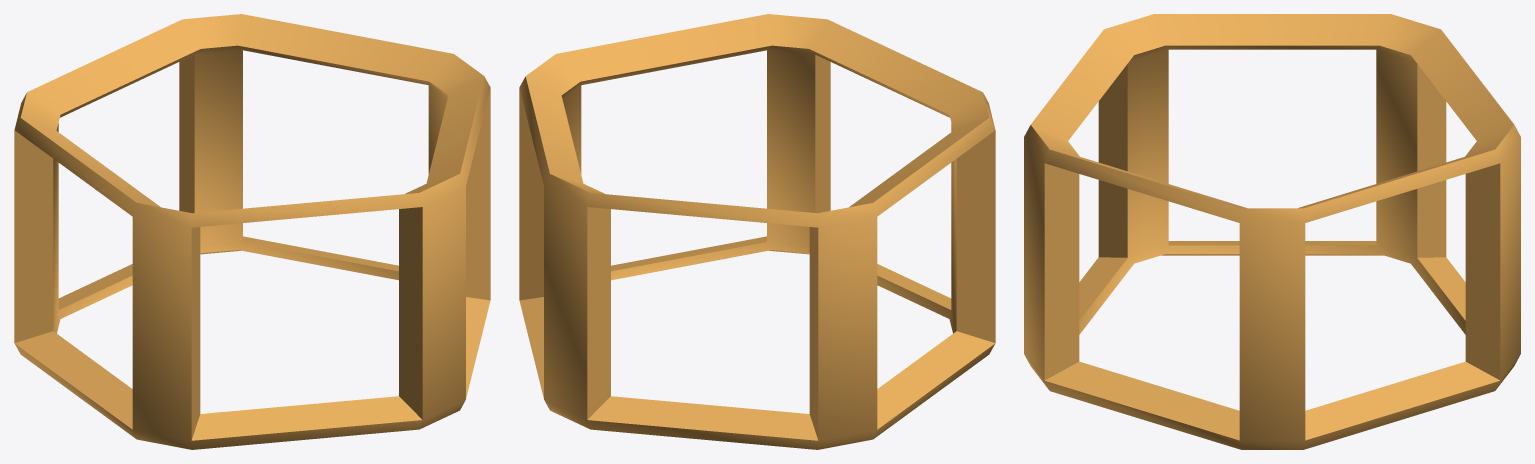
File: CylinderMesh_06.fbx
The picture shows the model from 3 angles, left to right: view 1: azimuth 30°, elevation 25°; view 2: azimuth 150°, elevation 25°; view 3: azimuth 270°, elevation 25°; orthographic projection. The views are drawn at different scales.
Parts seen in each view (by area): view 1: CylinderMesh_06; view 2: CylinderMesh_06; view 3: CylinderMesh_06.
Part boxes in pixels (left/top/right/bottom): CylinderMesh_06: left=14, top=14, right=490, bottom=449; CylinderMesh_06: left=519, top=14, right=995, bottom=449; CylinderMesh_06: left=1024, top=14, right=1520, bottom=449.
Size of the model in its own units: 284 by 160 by 298.
